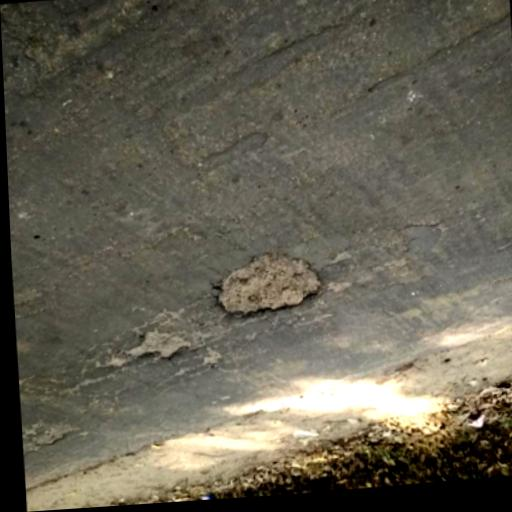pothole: (213, 249, 328, 324), (123, 326, 195, 366)
